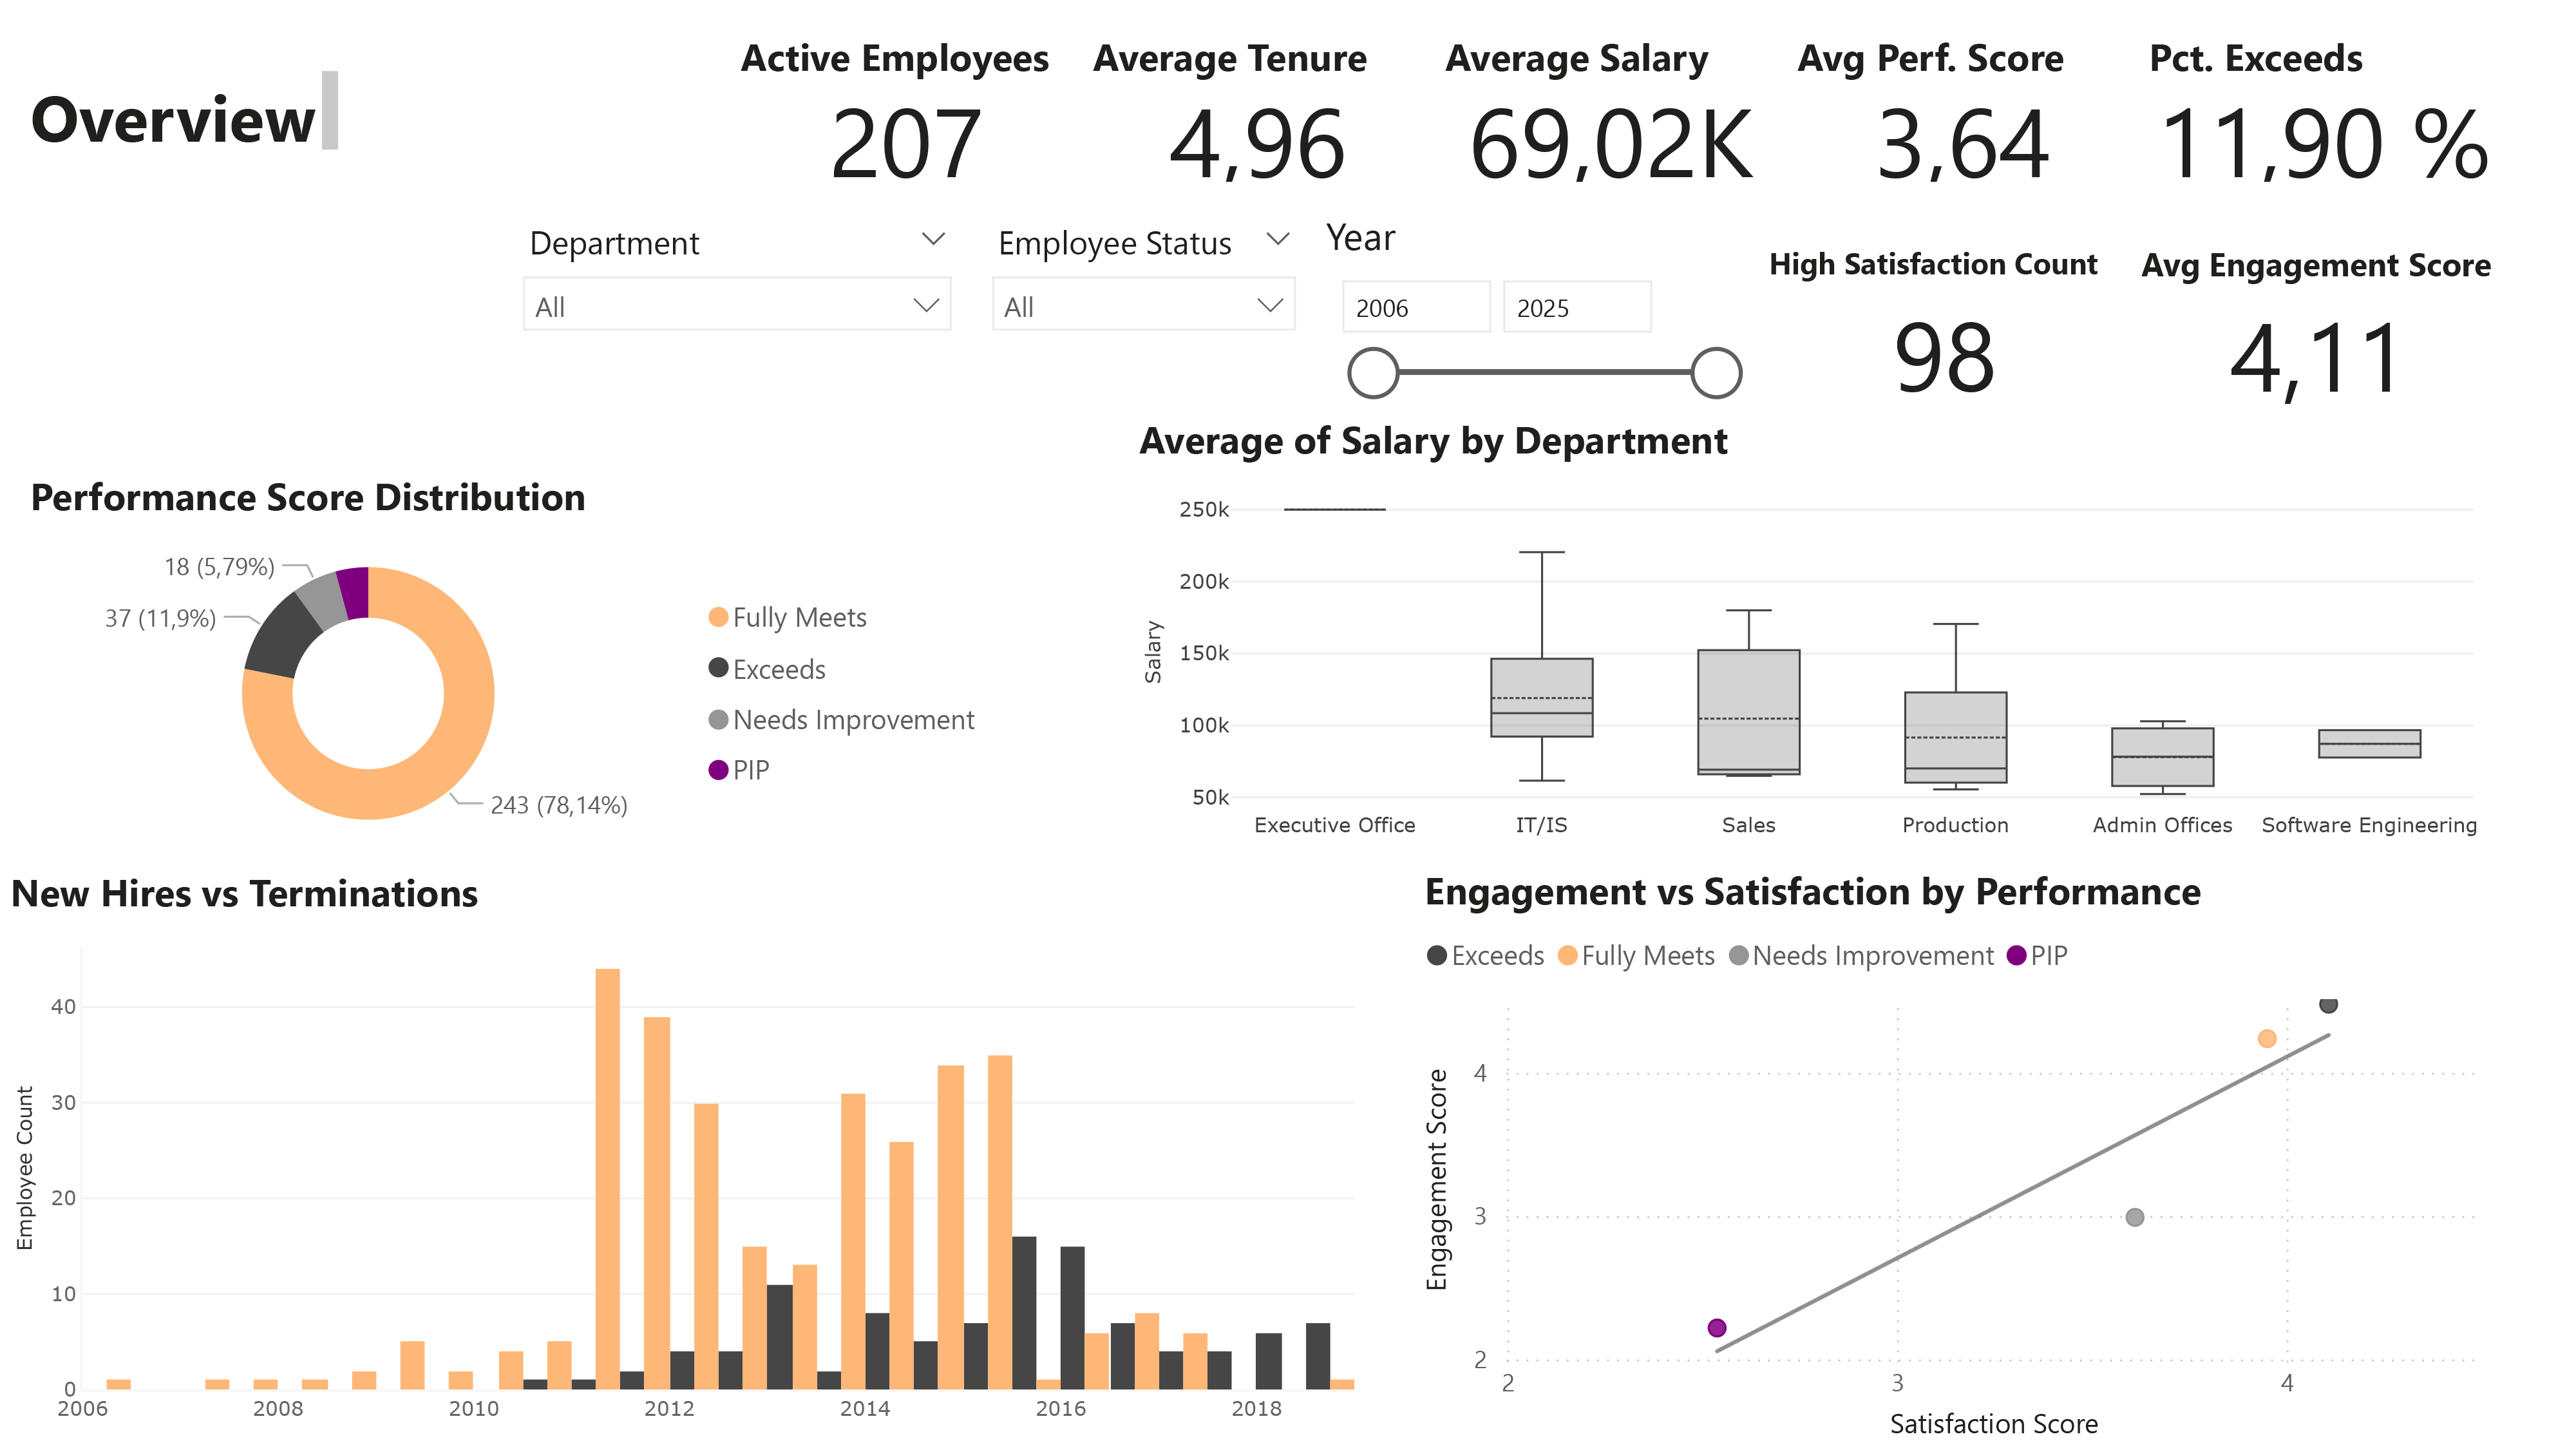

The dashboard page shown, as its layout file describes it:
{"tool":"powerbi","page":{"name":"Overview","canvas":[1280,720],"ordinal":0},"visuals":[{"type":"card","title":"Avg Perf. Score","fields":{"Values":["Performance.Avg Performance Score"]},"box":[887.5,15,175,80],"z":0},{"type":"card","title":"Average Tenure","fields":{"Values":["Avg(EmploymentStatus.Tenure)"]},"box":[537.5,15,175,80],"z":1000},{"type":"card","title":"Average Salary","fields":{"Values":["Avg(Employees.Salary)"]},"box":[712.5,15,175,80],"z":2000},{"type":"card","title":"Active Employees","fields":{"Values":["EmploymentStatus.Active Employees"]},"box":[362.5,15,175,80],"z":3000},{"type":"card","title":"High Satisfaction Count","fields":{"Values":["CountNonNull(Employees.EmpID)"]},"box":[873.8,120,185,87.5],"z":4000},{"type":"card","title":"Avg Engagement Score","fields":{"Values":["Avg(Performance.EngagementSurvey)"]},"box":[1058.8,120,187.5,87.5],"z":5000},{"type":"histogram7D0E580F1FEB4DDA901A6D8146EA6387","title":"New Hires vs Terminations","fields":{"col_4":["EmploymentStatus.DateofHire"],"col_5":["Employees.EmpID"],"col_2":["EmploymentStatus.DateofTermination"],"col_3":["Employees.EmpID"]},"box":[0,430,687.5,290],"z":6000},{"type":"boxandwhiskerwithpoints3B3DF5C11B683E5DB4E630DD7899B035","title":"Average of Salary by Department","fields":{"col_0":["Jobs.Department"],"col_2":["Avg(Employees.Salary)"],"col_3":["Jobs.Position"]},"box":[561.2,205,685,225],"z":7000},{"type":"donutChart","title":"Performance Score Distribution","fields":{"Category":["Performance.PerformanceScore"],"Y":["CountNonNull(Employees.EmpID)"]},"box":[10,232.5,488.8,197.5],"z":8000},{"type":"scatterChart","title":"Engagement vs Satisfaction by Performance","fields":{"Y":["Avg(Performance.EngagementSurvey)"],"X":["Avg(Performance.EmpSatisfaction)"],"Series":["Performance.PerformanceScore"]},"box":[702.5,428.8,543.8,291.2],"z":9000},{"type":"slicer","title":"Year","fields":{"Values":["Dates.Year"]},"box":[653.8,103.8,220,101.2],"z":10000},{"type":"slicer","fields":{"Values":["EmploymentStatus.Employee Status"]},"box":[482.5,103.8,171.2,60],"z":11000},{"type":"slicer","fields":{"Values":["Jobs.Department"]},"box":[250,103.8,232.5,73.8],"z":12000},{"type":"card","title":"Pct. Exceeds","fields":{"Values":["Performance.Exceeds %"]},"box":[1062.5,15,183.8,80],"z":13000},{"type":"textbox","box":[10,30,162.5,51.2],"z":14000}]}

Visuals, with their boxes in screenshot pixels (x1, y1, x2, y2), scaled from the page's 1280x720 canvas onto the 2576x1450 screenshot:
"Avg Perf. Score" card: <bbox>1786, 30, 2138, 191</bbox>
"Average Tenure" card: <bbox>1082, 30, 1434, 191</bbox>
"Average Salary" card: <bbox>1434, 30, 1786, 191</bbox>
"Active Employees" card: <bbox>730, 30, 1082, 191</bbox>
"High Satisfaction Count" card: <bbox>1759, 242, 2131, 418</bbox>
"Avg Engagement Score" card: <bbox>2131, 242, 2508, 418</bbox>
"New Hires vs Terminations" histogram7D0E580F1FEB4DDA901A6D8146EA6387: <bbox>0, 866, 1383, 1449</bbox>
"Average of Salary by Department" boxandwhiskerwithpoints3B3DF5C11B683E5DB4E630DD7899B035: <bbox>1130, 413, 2508, 866</bbox>
"Performance Score Distribution" donutChart: <bbox>20, 468, 1004, 866</bbox>
"Engagement vs Satisfaction by Performance" scatterChart: <bbox>1414, 864, 2508, 1449</bbox>
"Year" slicer: <bbox>1316, 209, 1759, 413</bbox>
slicer - EmploymentStatus.Employee Status: <bbox>971, 209, 1316, 330</bbox>
slicer - Jobs.Department: <bbox>503, 209, 971, 358</bbox>
"Pct. Exceeds" card: <bbox>2138, 30, 2508, 191</bbox>
textbox: <bbox>20, 61, 347, 164</bbox>
